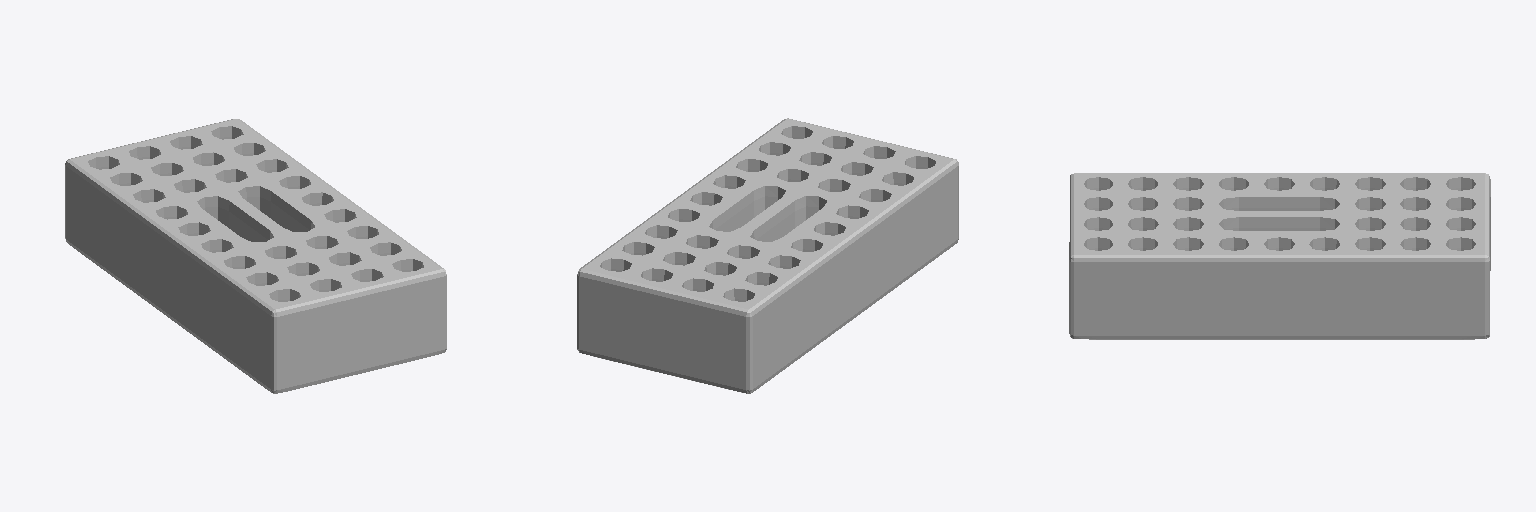
Rendered from High_Poly_Brick.obj.
The picture shows the model from 3 angles: view 1: azimuth 30°, elevation 25°; view 2: azimuth 150°, elevation 25°; view 3: azimuth 270°, elevation 25°; orthographic projection.
Parts seen in each view (by area): view 1: Brick_Cube.015; view 2: Brick_Cube.015; view 3: Brick_Cube.015.
Boxes of the visible parts, x1,y1,x2,y2 form: Brick_Cube.015: [65, 119, 446, 393]; Brick_Cube.015: [577, 118, 958, 393]; Brick_Cube.015: [1069, 173, 1490, 339].
Size of the model in its own units: 1.67 by 0.7627 by 3.47.